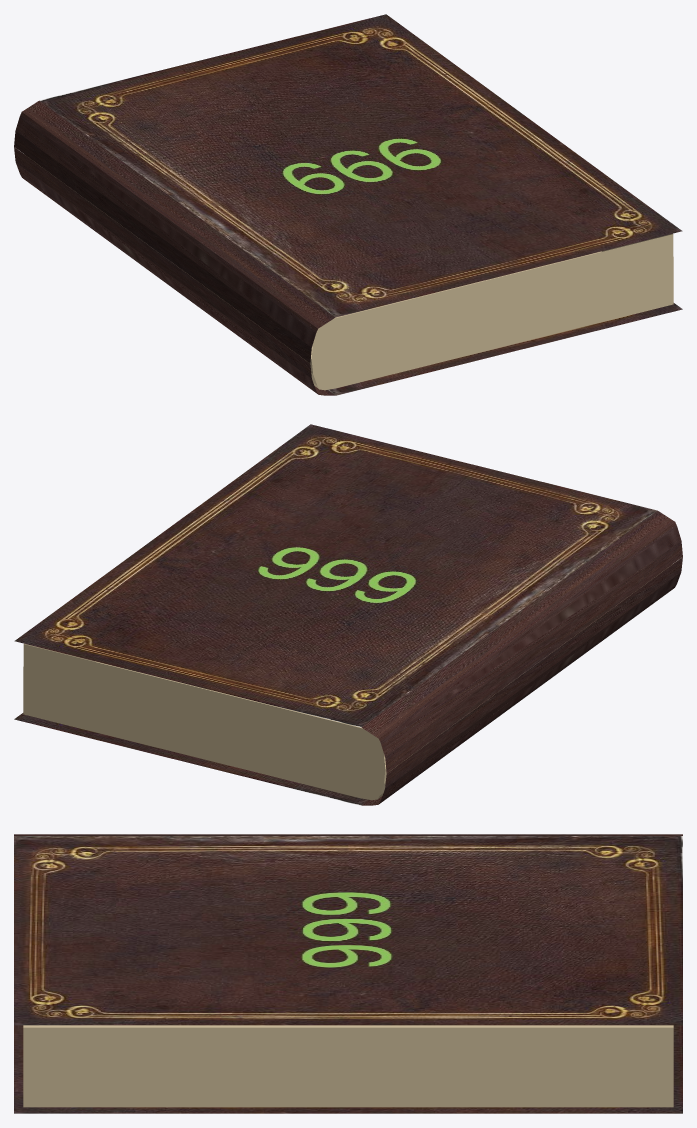
The model's file is Libro666Bueno.fbx.
3 views of the same model, one above another, from view 1: azimuth 30°, elevation 25°; view 2: azimuth 150°, elevation 25°; view 3: azimuth 270°, elevation 25° (orthographic). The views are drawn at different scales.
Parts seen in each view (by area): view 1: Cub.002, Cub; view 2: Cub.002, Cub; view 3: Cub.002, Cub.
Part boxes in pixels (<box>): Cub.002: <box>14,14,682,395</box>; Cub: <box>24,154,673,390</box>; Cub.002: <box>14,424,682,805</box>; Cub: <box>23,564,672,800</box>; Cub.002: <box>14,834,682,1113</box>; Cub: <box>23,1025,673,1107</box>.
Bounding box in the file's own units: 149 × 30.63 × 206.
